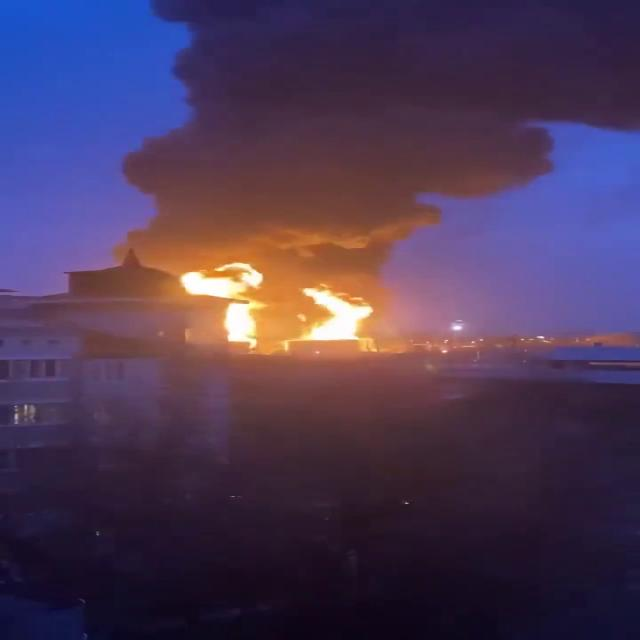Fire: (181, 273, 297, 358), (300, 285, 377, 350)
Smoke: (123, 30, 640, 244)
